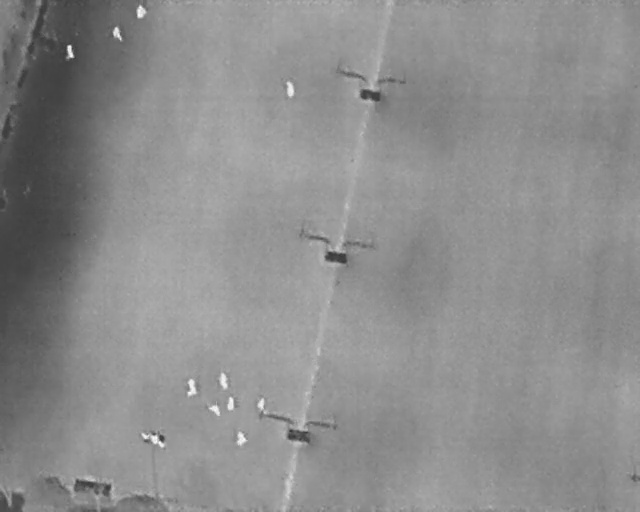Person: (187, 378, 198, 398), (236, 431, 248, 447), (219, 371, 229, 390), (208, 403, 221, 416), (135, 5, 147, 19), (286, 81, 295, 98), (66, 44, 75, 59), (227, 396, 235, 412), (113, 26, 122, 40), (257, 397, 265, 411)
